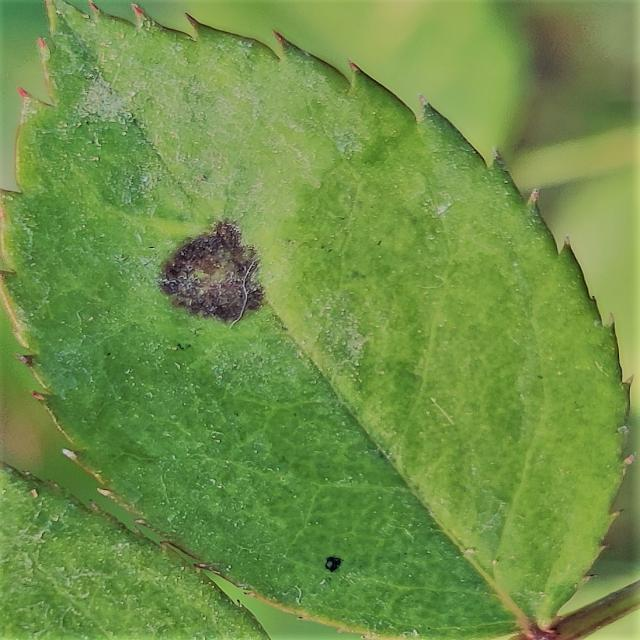Black_spot: (156, 216, 268, 327)
Rose: (1, 1, 635, 637)
